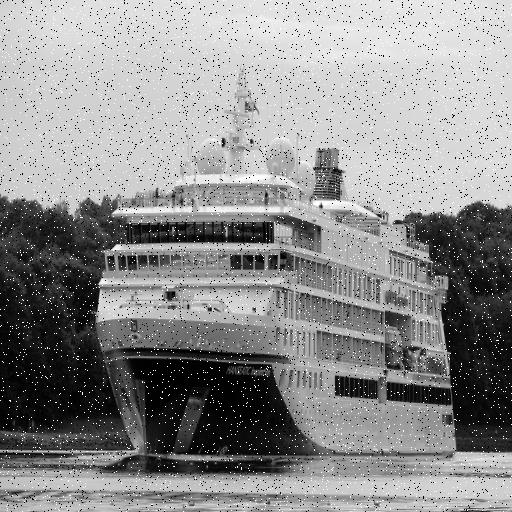cruises: (94, 69, 461, 465)
